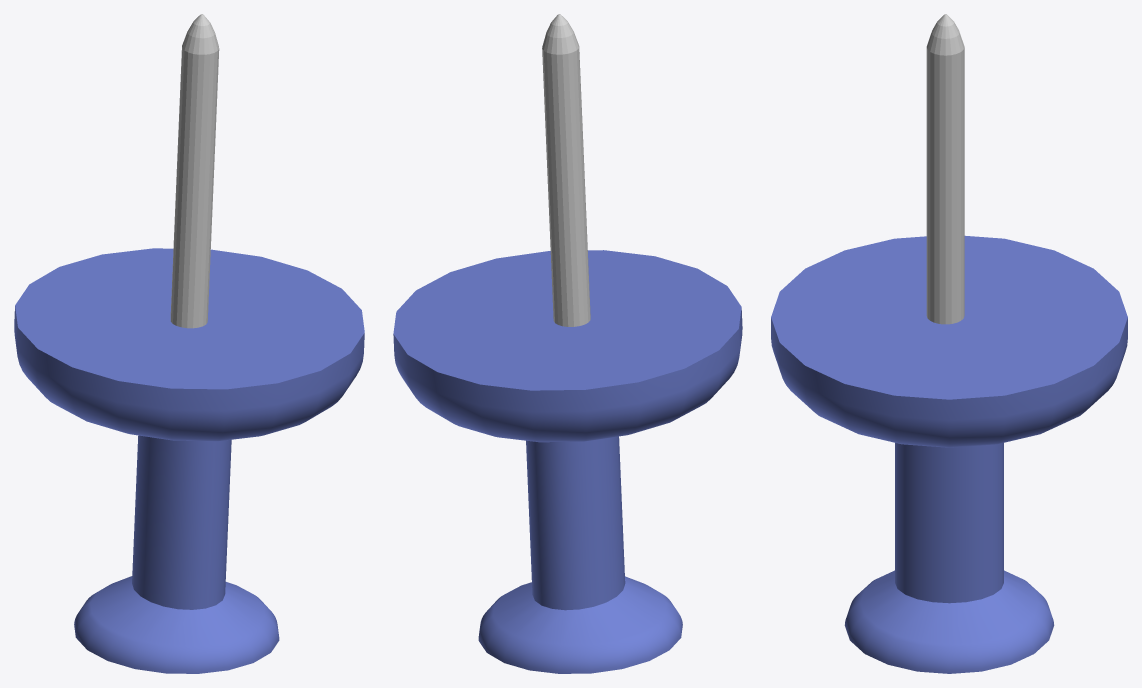
Rendered from BlueThumbtack.fbx.
The picture shows the model from 3 angles, left to right: view 1: azimuth 30°, elevation 25°; view 2: azimuth 150°, elevation 25°; view 3: azimuth 270°, elevation 25°; orthographic projection.
Parts seen in each view (by area): view 1: ThumbtackBod, pCylinder1; view 2: ThumbtackBod, pCylinder1; view 3: ThumbtackBod, pCylinder1.
Part boxes in pixels (bbox=[...]): ThumbtackBod: bbox=[14, 248, 364, 673]; pCylinder1: bbox=[170, 14, 219, 328]; ThumbtackBod: bbox=[393, 250, 742, 673]; pCylinder1: bbox=[542, 14, 590, 326]; ThumbtackBod: bbox=[771, 235, 1127, 673]; pCylinder1: bbox=[926, 14, 964, 324].
Bounding box in the file's own units: 3.41 × 6.6 × 3.41.
